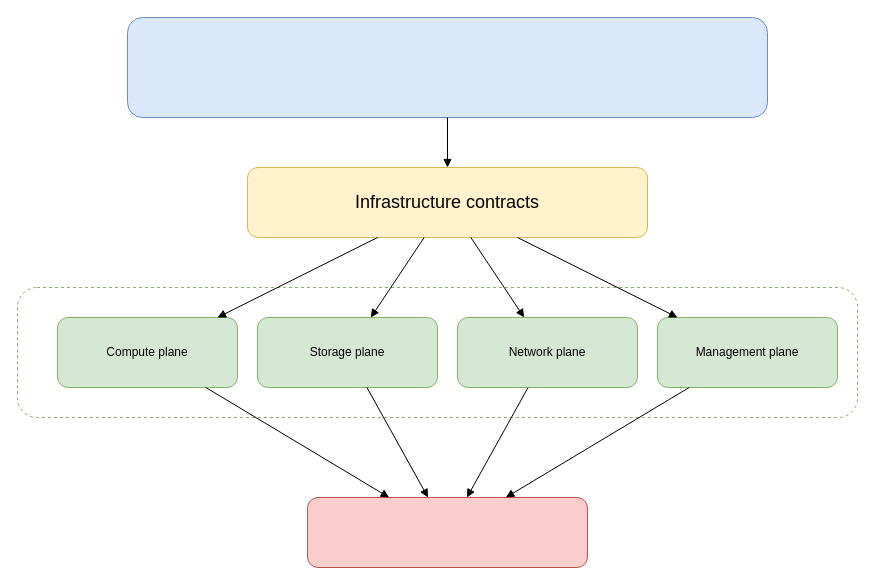
Image size: 875x585. Some labels were removed from this diagram. The box of each missing label's shape, as (x1, y1, x2, y2) in pixels:
Bare metal: (306, 496, 588, 568)
HOMELAB — private infrastructure fabric: (16, 286, 858, 418)
Platform layer Software | Engineering | Knowledge | Media: (126, 16, 768, 118)
